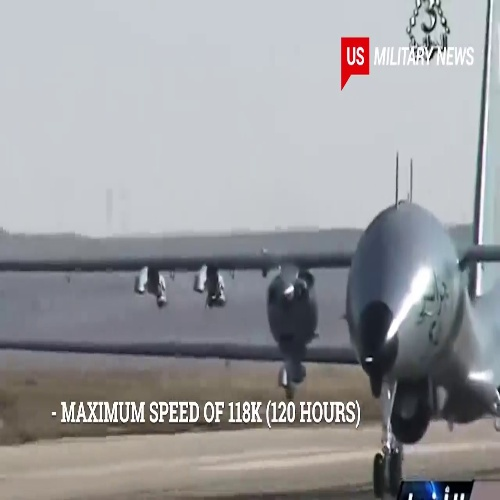uav173: (2, 58, 498, 500)
